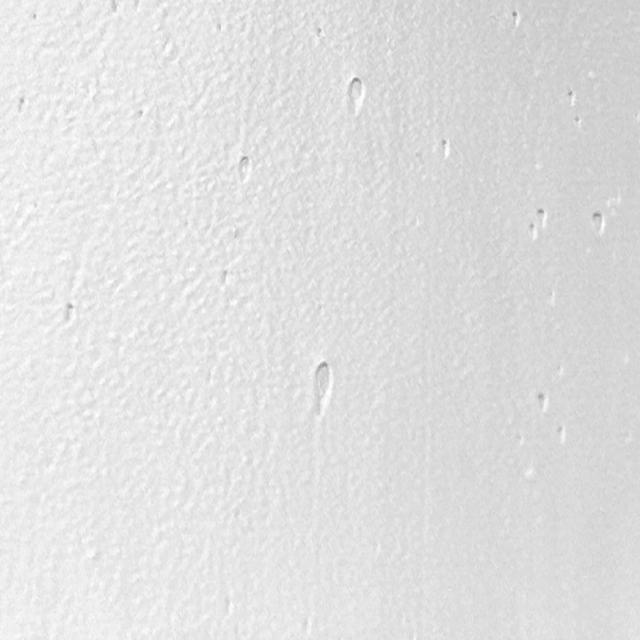pin holes: (306, 360, 336, 413), (344, 75, 368, 112), (58, 302, 81, 330), (234, 154, 254, 184), (588, 208, 609, 235), (534, 389, 554, 414), (534, 206, 551, 232), (436, 138, 454, 161), (13, 93, 31, 115), (525, 221, 541, 245), (110, 0, 126, 18), (553, 424, 567, 444), (509, 10, 523, 28), (220, 269, 233, 288), (314, 23, 325, 44), (566, 89, 578, 108), (573, 116, 584, 131)
